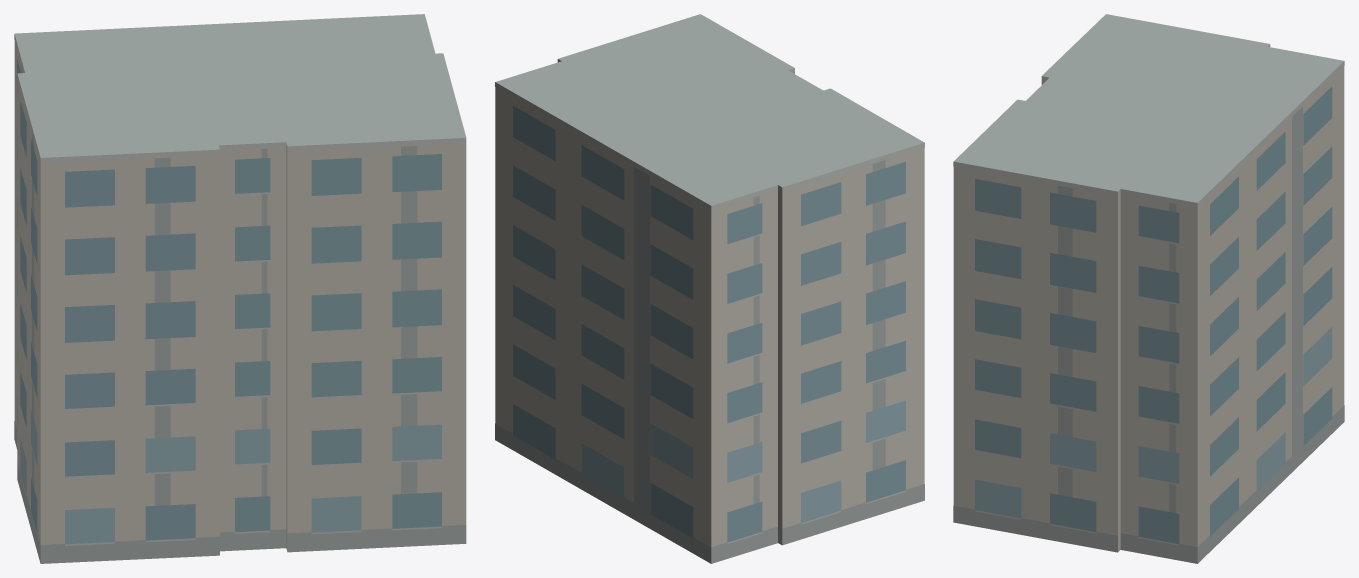
File: survey-upis-32893352.glb
3 views of the same model, side by side, from view 1: azimuth 30°, elevation 25°; view 2: azimuth 150°, elevation 25°; view 3: azimuth 270°, elevation 25° (orthographic). The views are drawn at different scales.
Parts seen in each view (by area): view 1: survey-upis-32893352.tmp; view 2: survey-upis-32893352.tmp; view 3: survey-upis-32893352.tmp.
Boxes of the visible parts, bbox=[...] form: survey-upis-32893352.tmp: bbox=[14, 14, 466, 563]; survey-upis-32893352.tmp: bbox=[495, 14, 924, 563]; survey-upis-32893352.tmp: bbox=[953, 14, 1344, 563].
Size of the model in its own units: 19.27 by 17.15 by 16.85.
